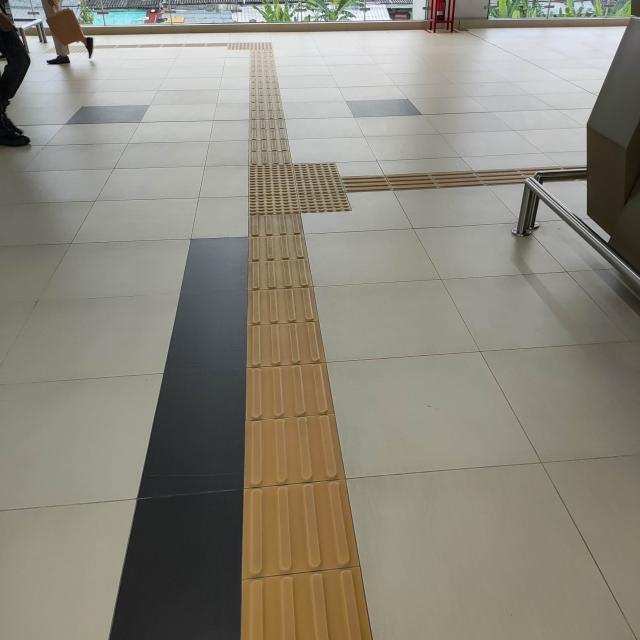lurus: (227, 219, 384, 640), (245, 60, 291, 162)
